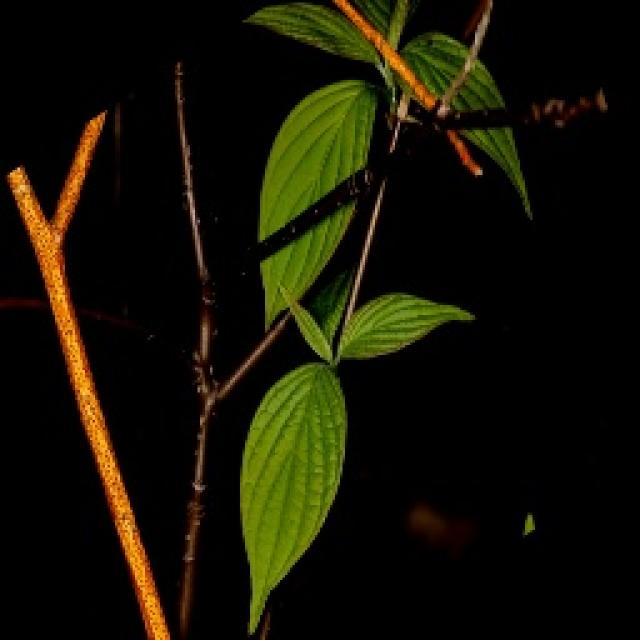Golden_canker: (0, 108, 255, 638), (302, 13, 518, 188)
